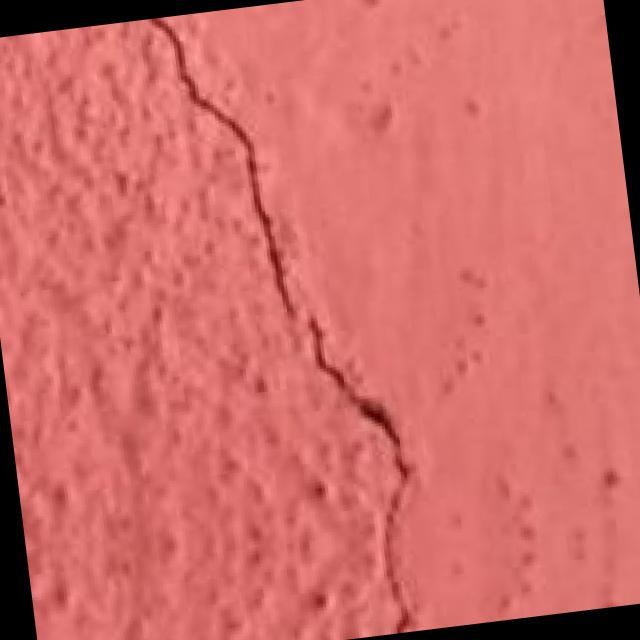crack: (157, 0, 435, 529)
